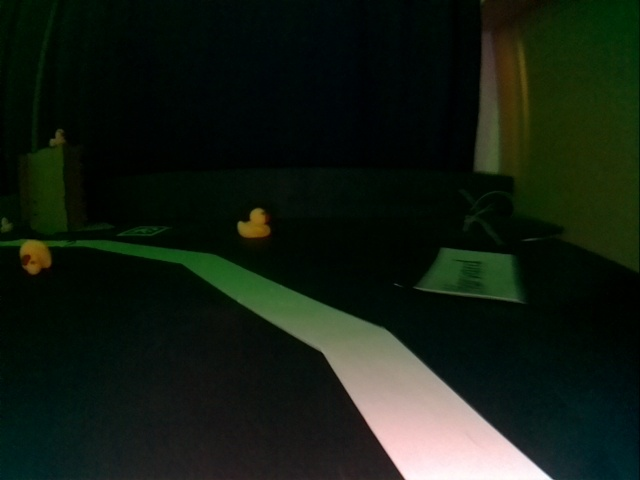Duckie: (20, 240, 52, 275), (237, 208, 270, 237), (49, 128, 67, 146), (2, 218, 12, 234)
QR code: (118, 225, 171, 236)
